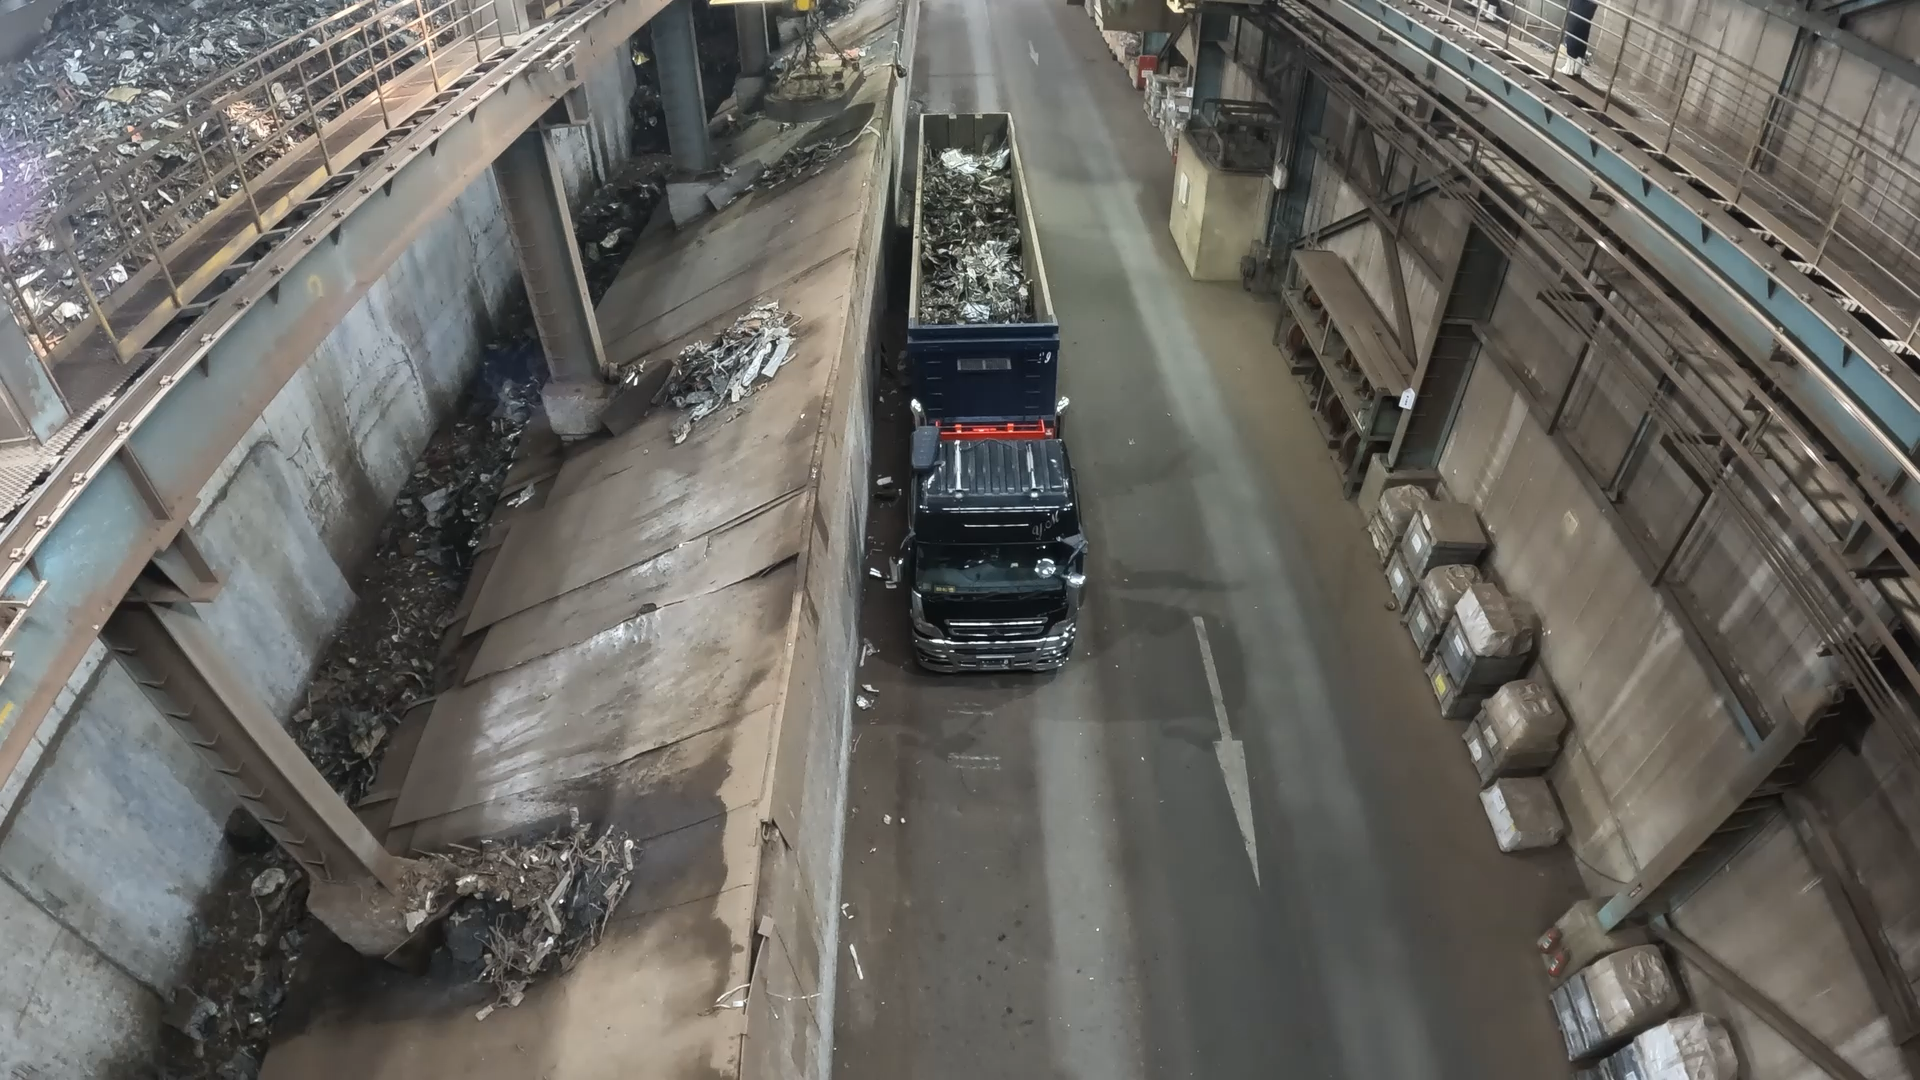truck: (910, 111, 1055, 326)
